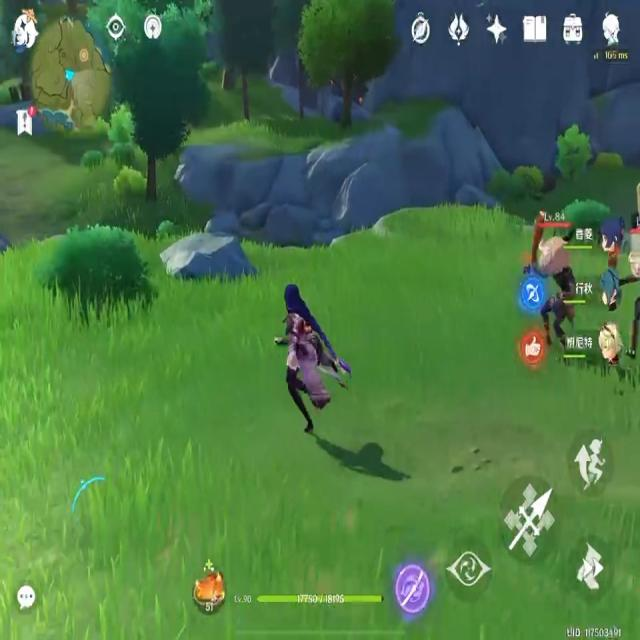genshin-hilichurls: (538, 217, 574, 358)
